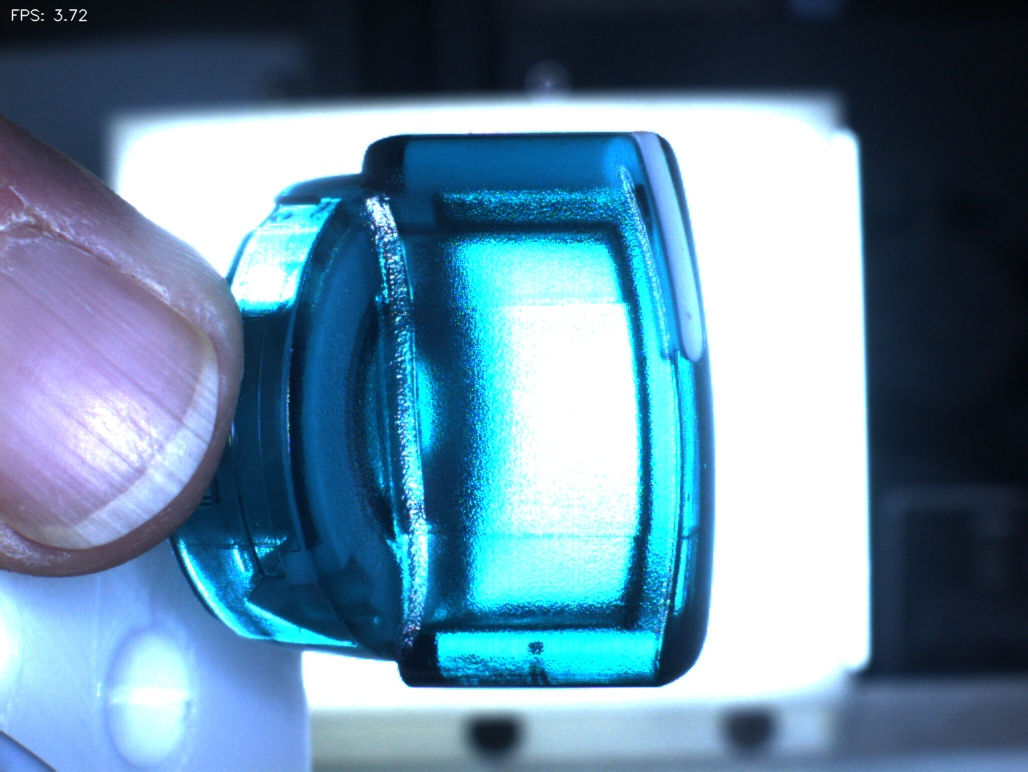Bulle: (496, 629, 574, 697)
